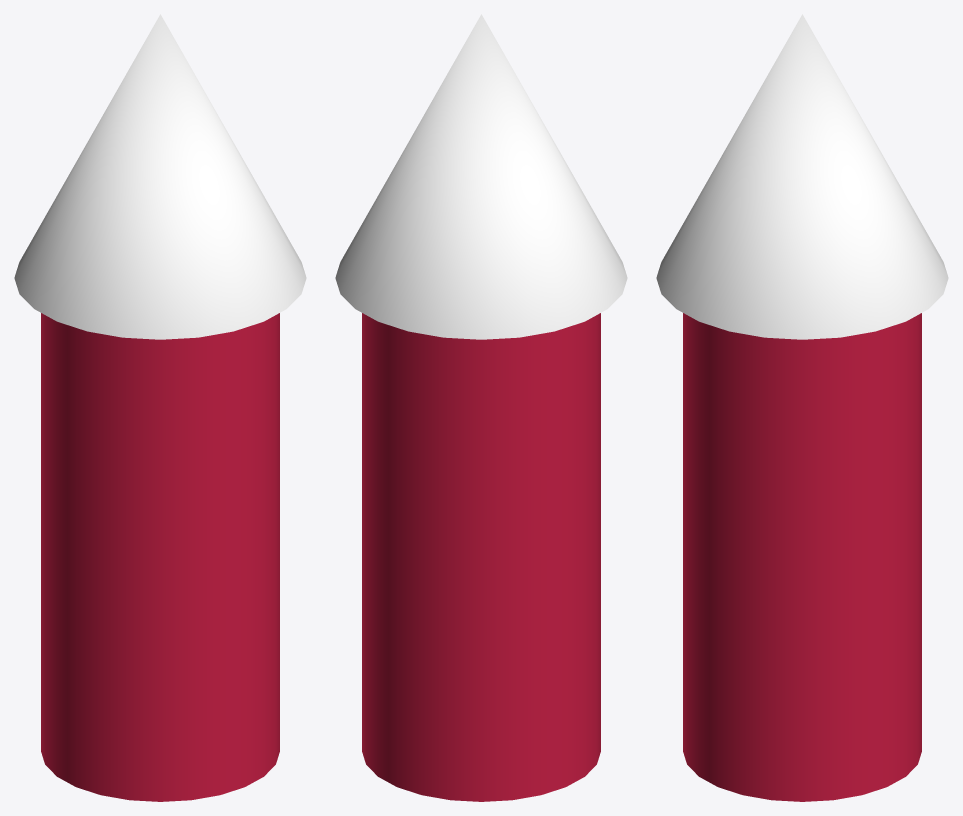
The model's file is rocket.fbx.
3 renders of one model, left to right at view 1: azimuth 30°, elevation 25°; view 2: azimuth 150°, elevation 25°; view 3: azimuth 270°, elevation 25°, orthographic.
Visible parts, largest first — view 1: Cylinder; view 2: Cylinder; view 3: Cylinder.
Part boxes in pixels (x1,y1,x2,y2): Cylinder: [14, 14, 306, 801]; Cylinder: [335, 14, 627, 801]; Cylinder: [656, 14, 948, 801].
Size of the model in its own units: 0.7726 by 0.7726 by 2.15.
Materials: 1 (1 with a texture image).
